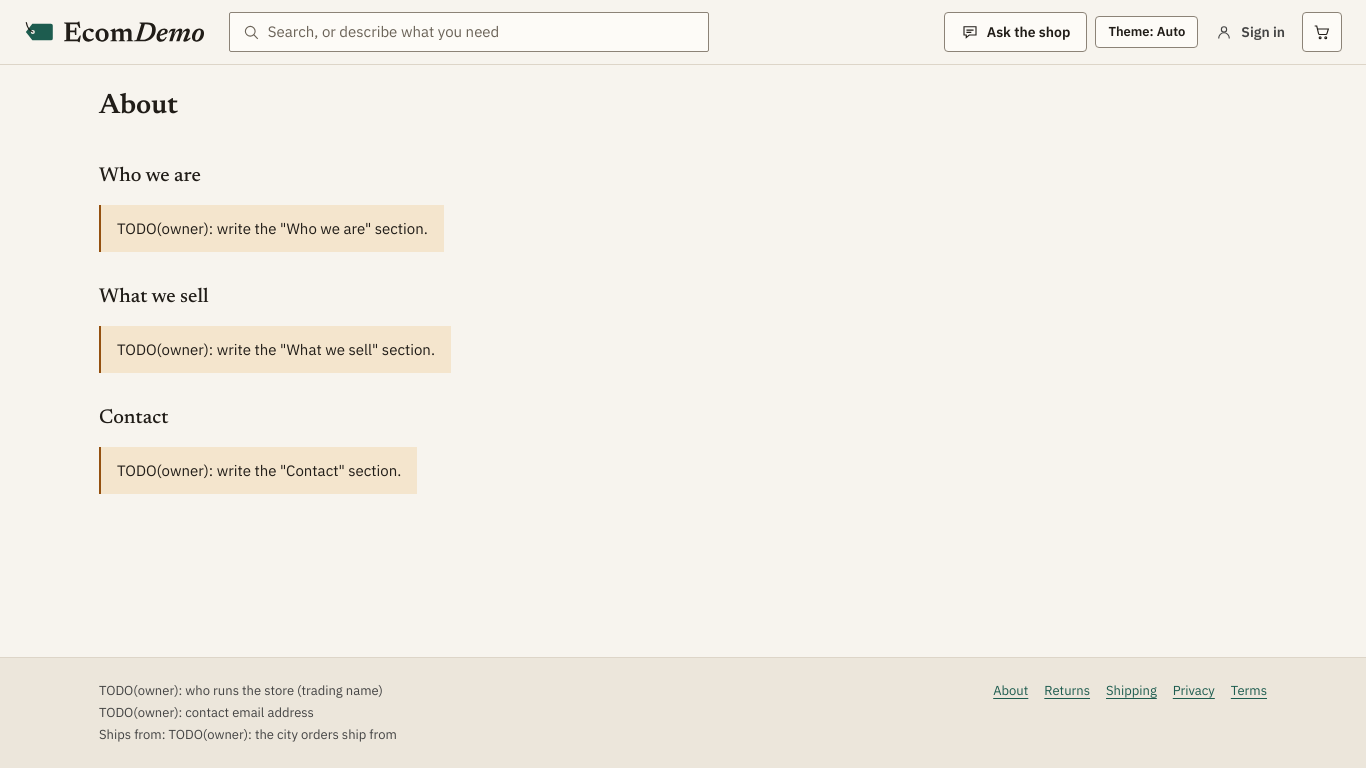
Test: the header search box › opens a suggestion that is clicked, and closes the list
Expected: the heading "About" is shown, [99, 89, 178, 123]
Type "desk" into the dropdown named "Search products". click: {"x": 482, "y": 32}
box: [268, 13, 696, 51]
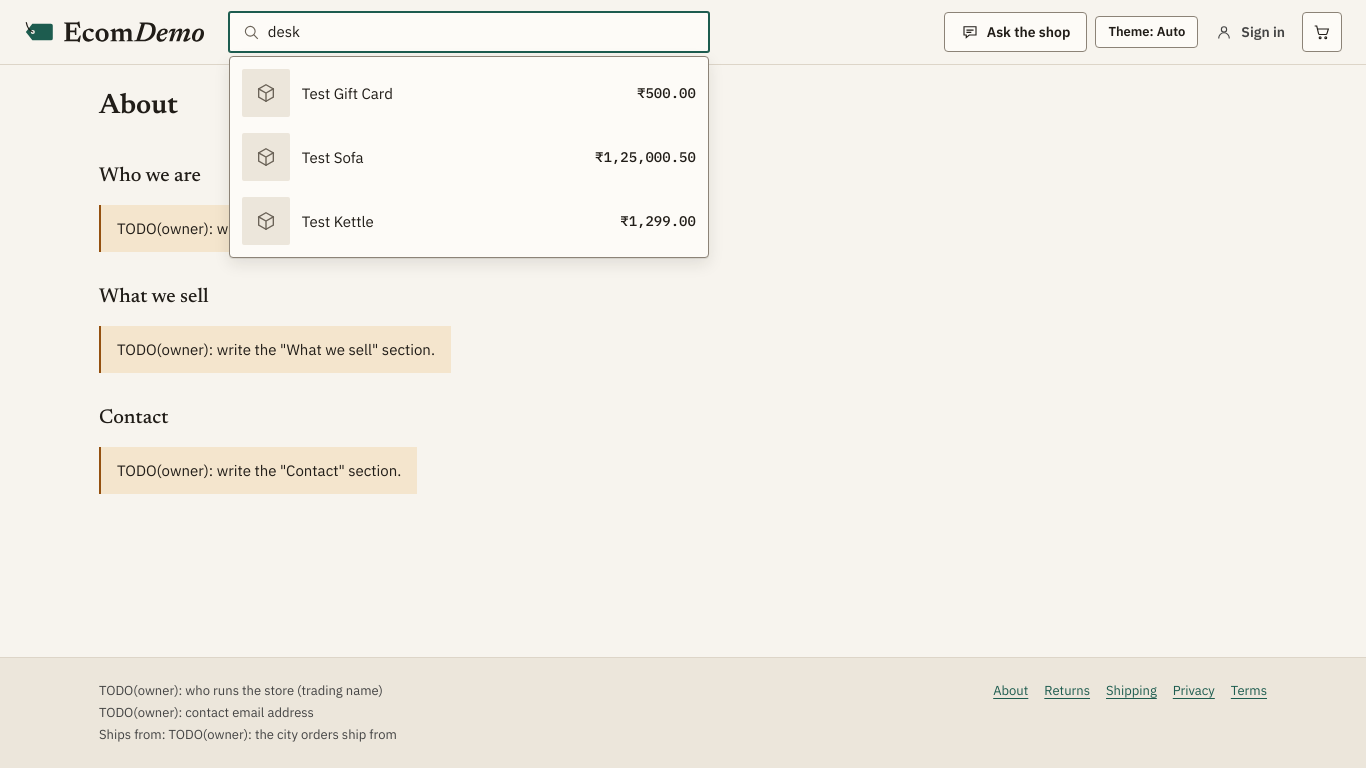
Click the option "Test Sofa ₹1,25,000.50". click: {"x": 266, "y": 157}
box: [234, 125, 704, 189]
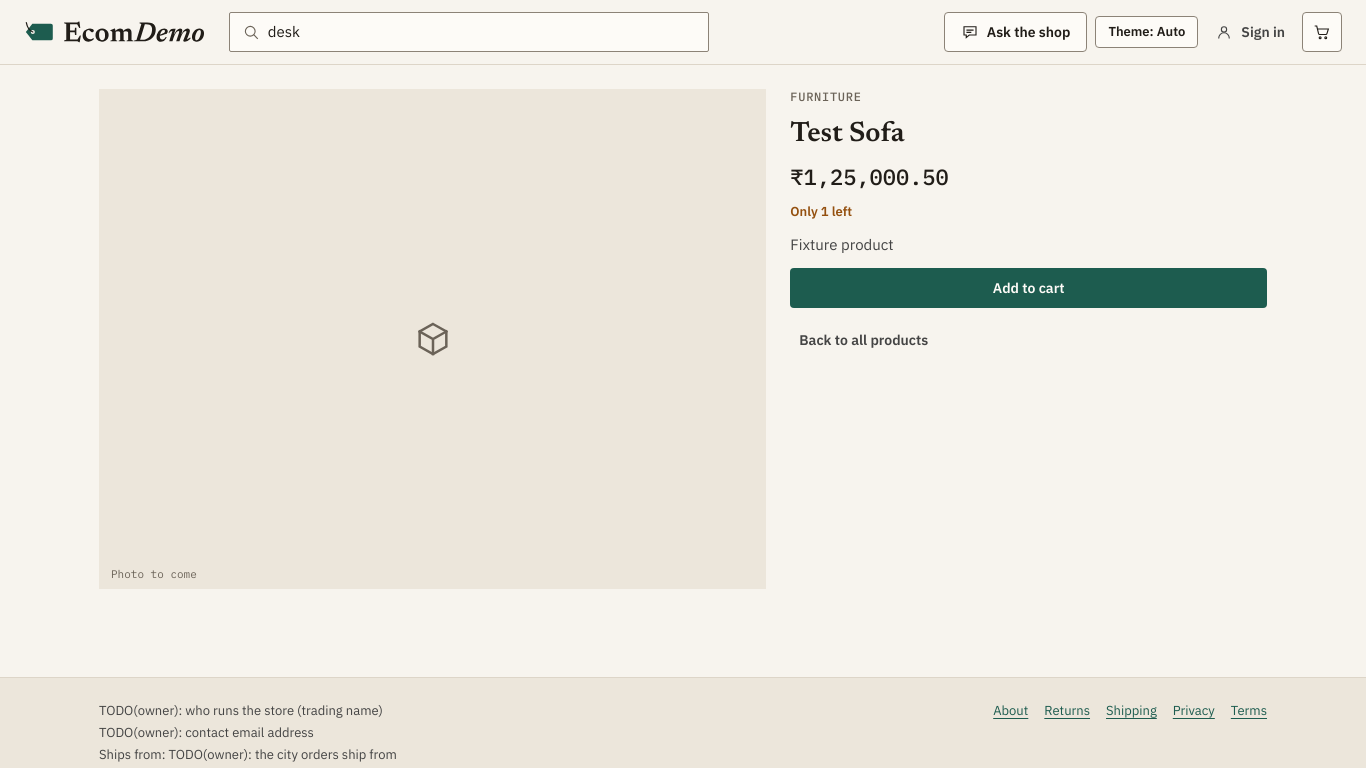
Now the list is gone
